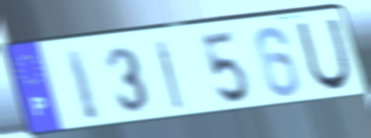3: (104, 44, 150, 115)
5: (197, 29, 251, 105)
6: (253, 24, 301, 99)
I: (62, 46, 103, 125), (152, 38, 186, 112)
U: (294, 16, 354, 93)
